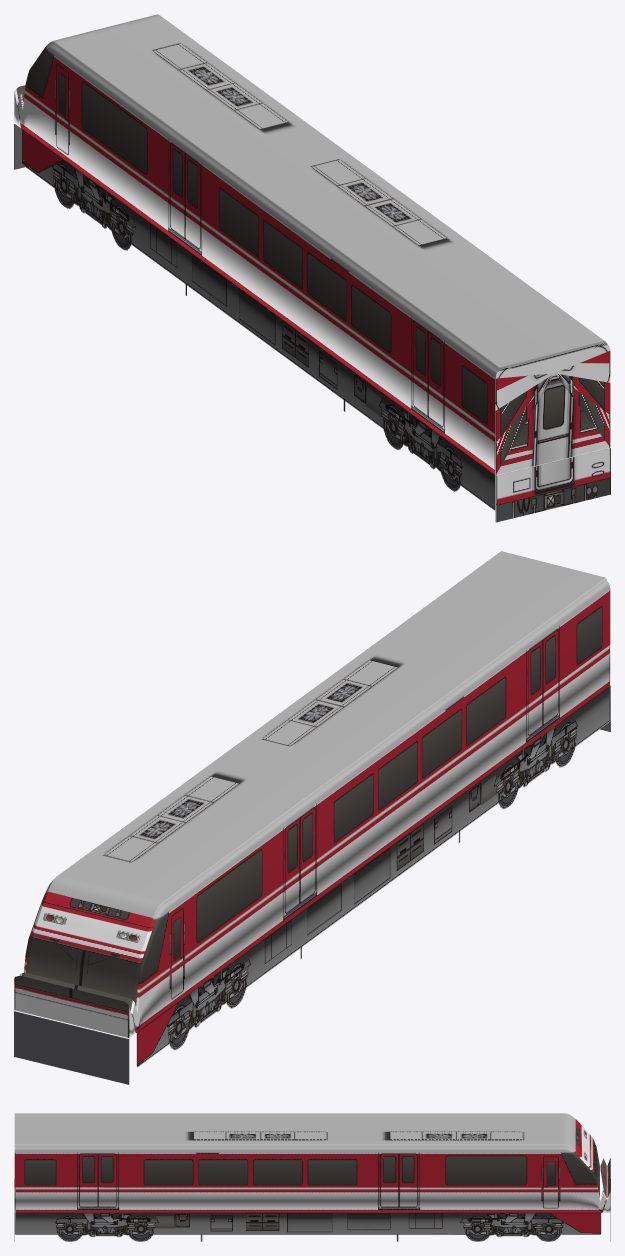
The model's file is car6.glb.
3 renders of one model, top to bottom at view 1: azimuth 30°, elevation 25°; view 2: azimuth 150°, elevation 25°; view 3: azimuth 270°, elevation 25°, orthographic. The views are drawn at different scales.
Visible parts, largest first — view 1: car6; view 2: car6; view 3: car6.
Part boxes in pixels (x1,y1,x2,y2): car6: (14, 14, 610, 522); car6: (14, 551, 610, 1084); car6: (14, 1113, 610, 1241).
Size of the model in its own units: 2.72 by 3.49 by 19.74.
6 materials, 5 textured.
